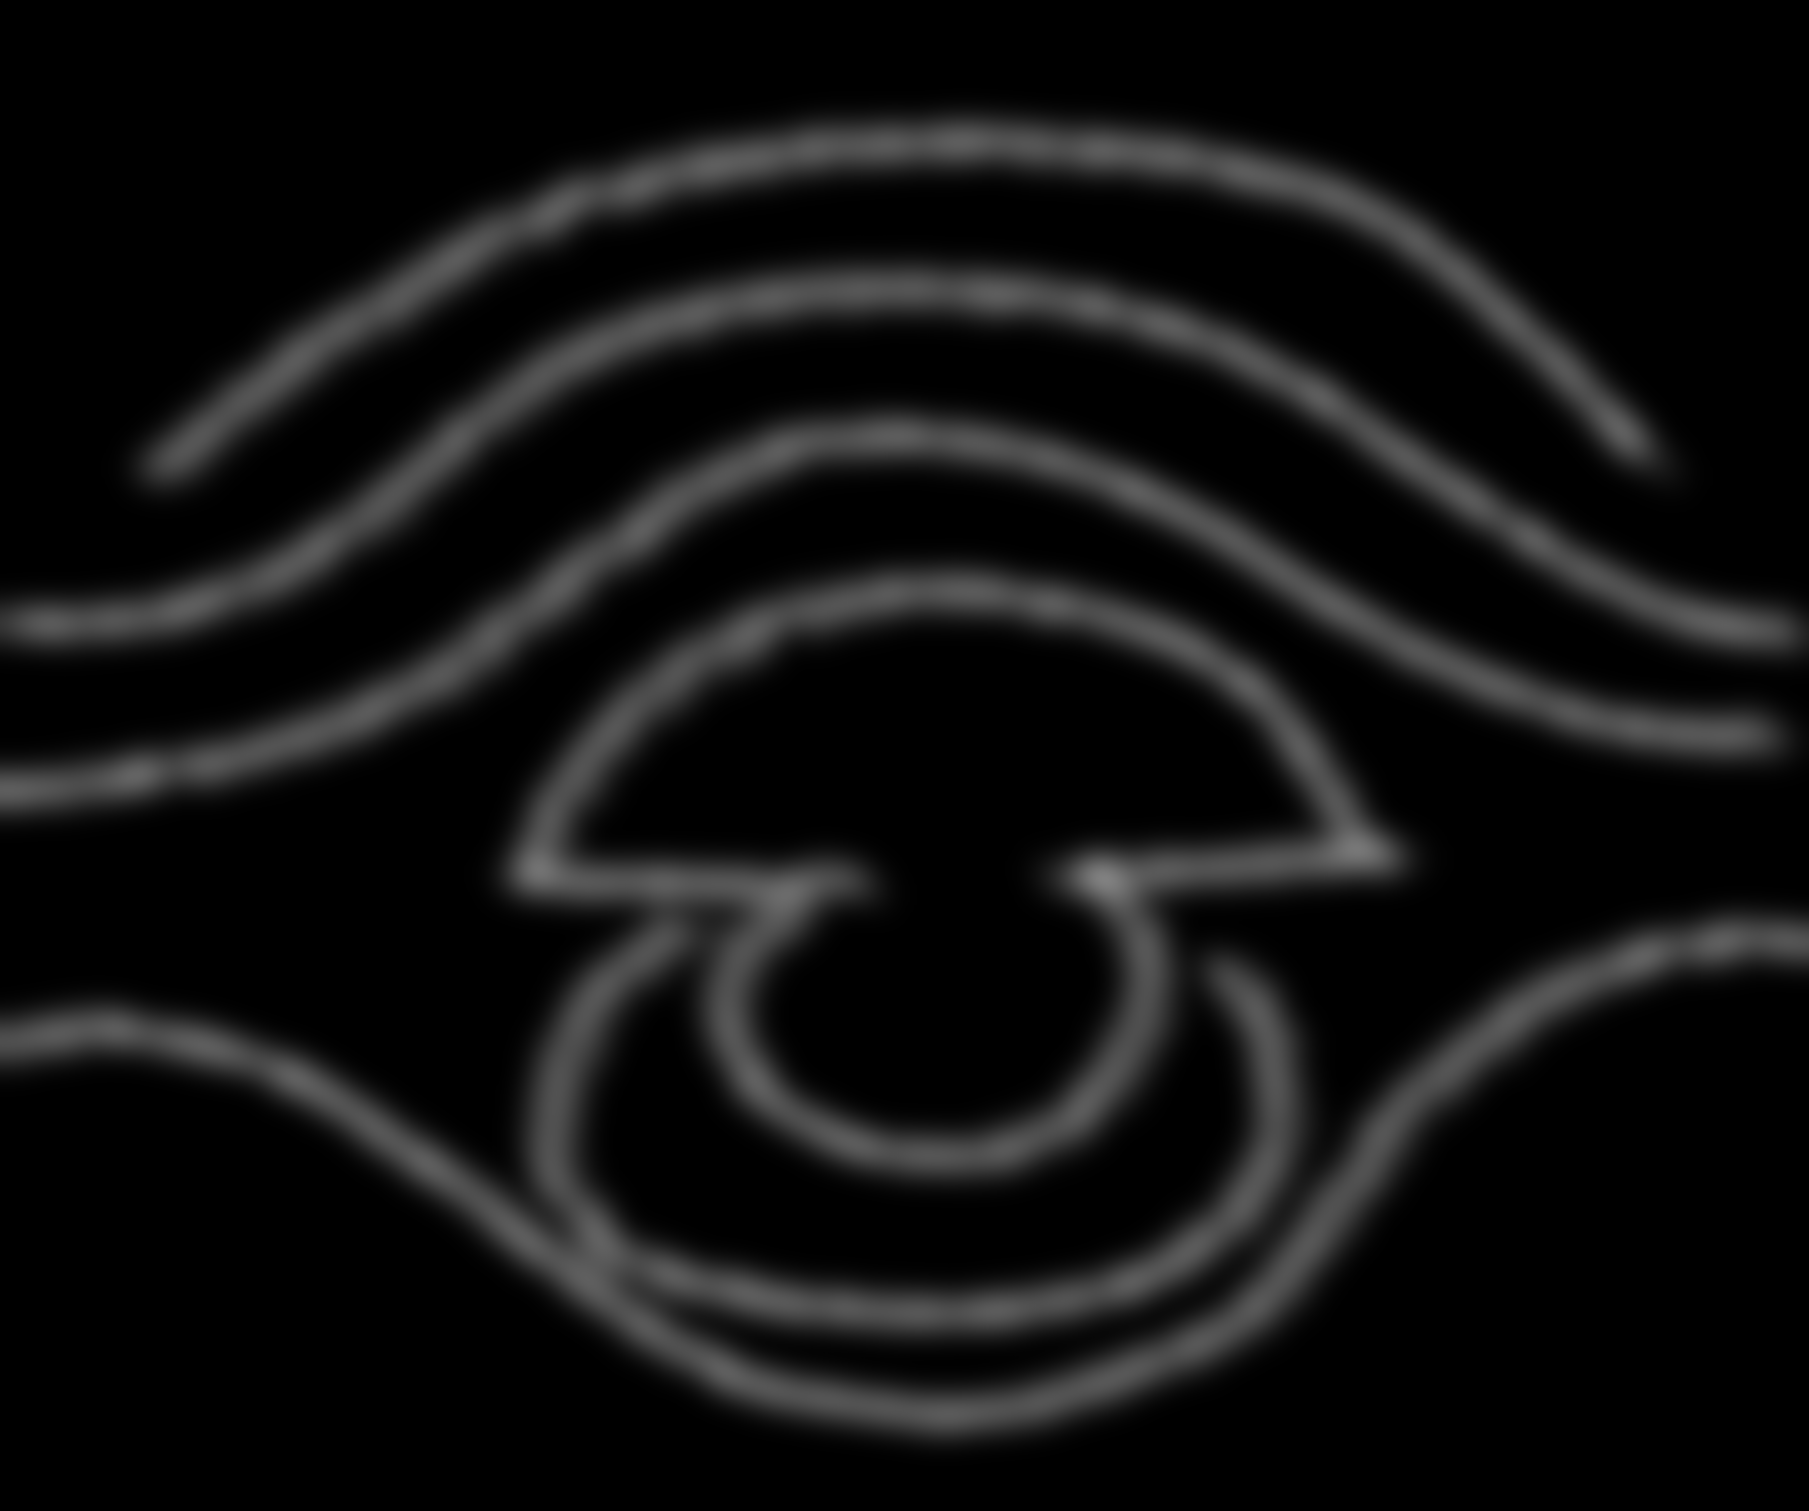Transition flow: (32, 69, 1801, 1416)
